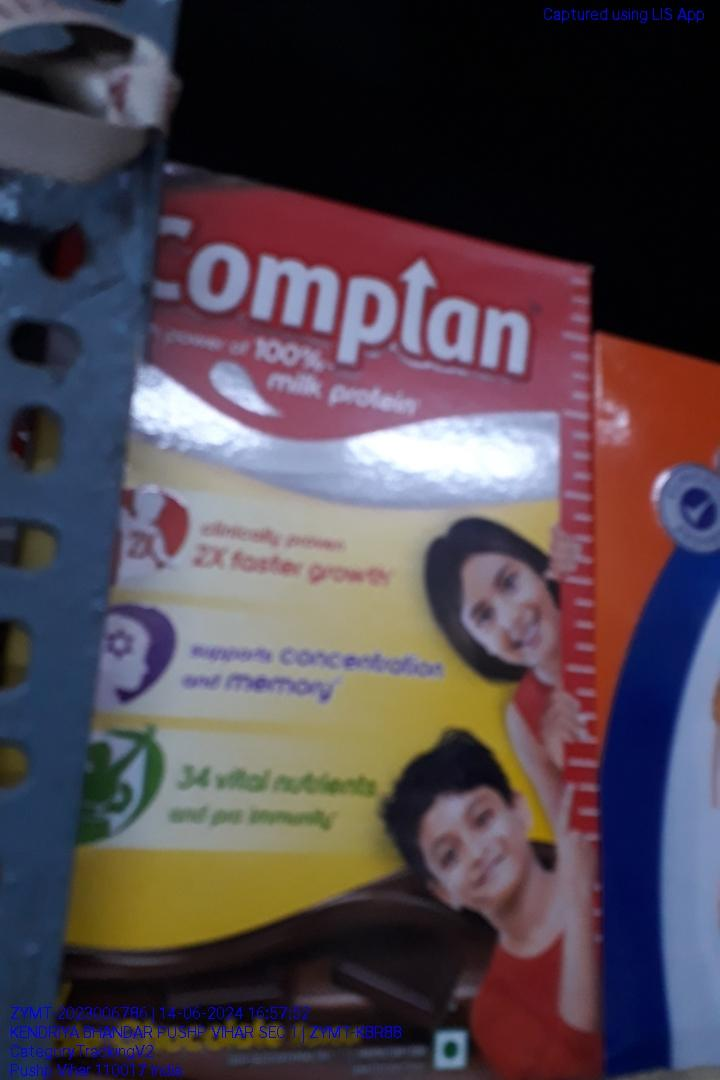COMPLAN_CHOCOLATE_500_GMS_PACK: (57, 180, 583, 1080)
